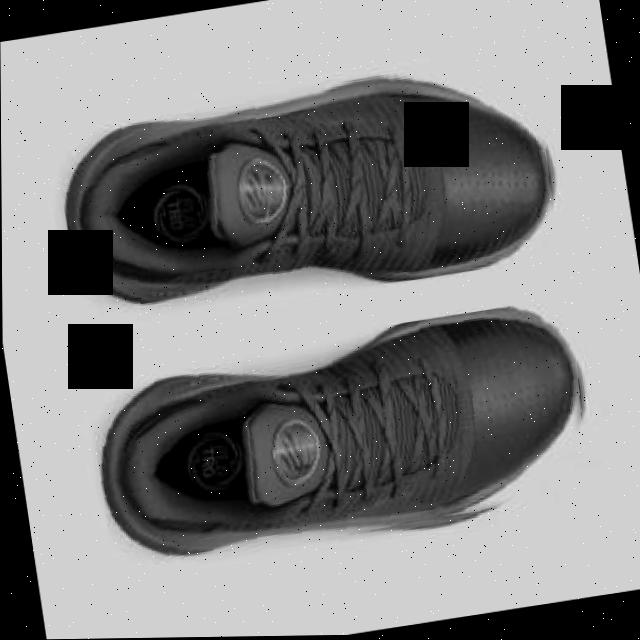shoe: (84, 299, 601, 577), (52, 52, 565, 332)
